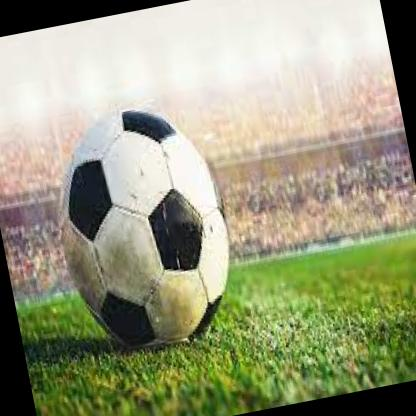ball: (40, 93, 248, 363)
